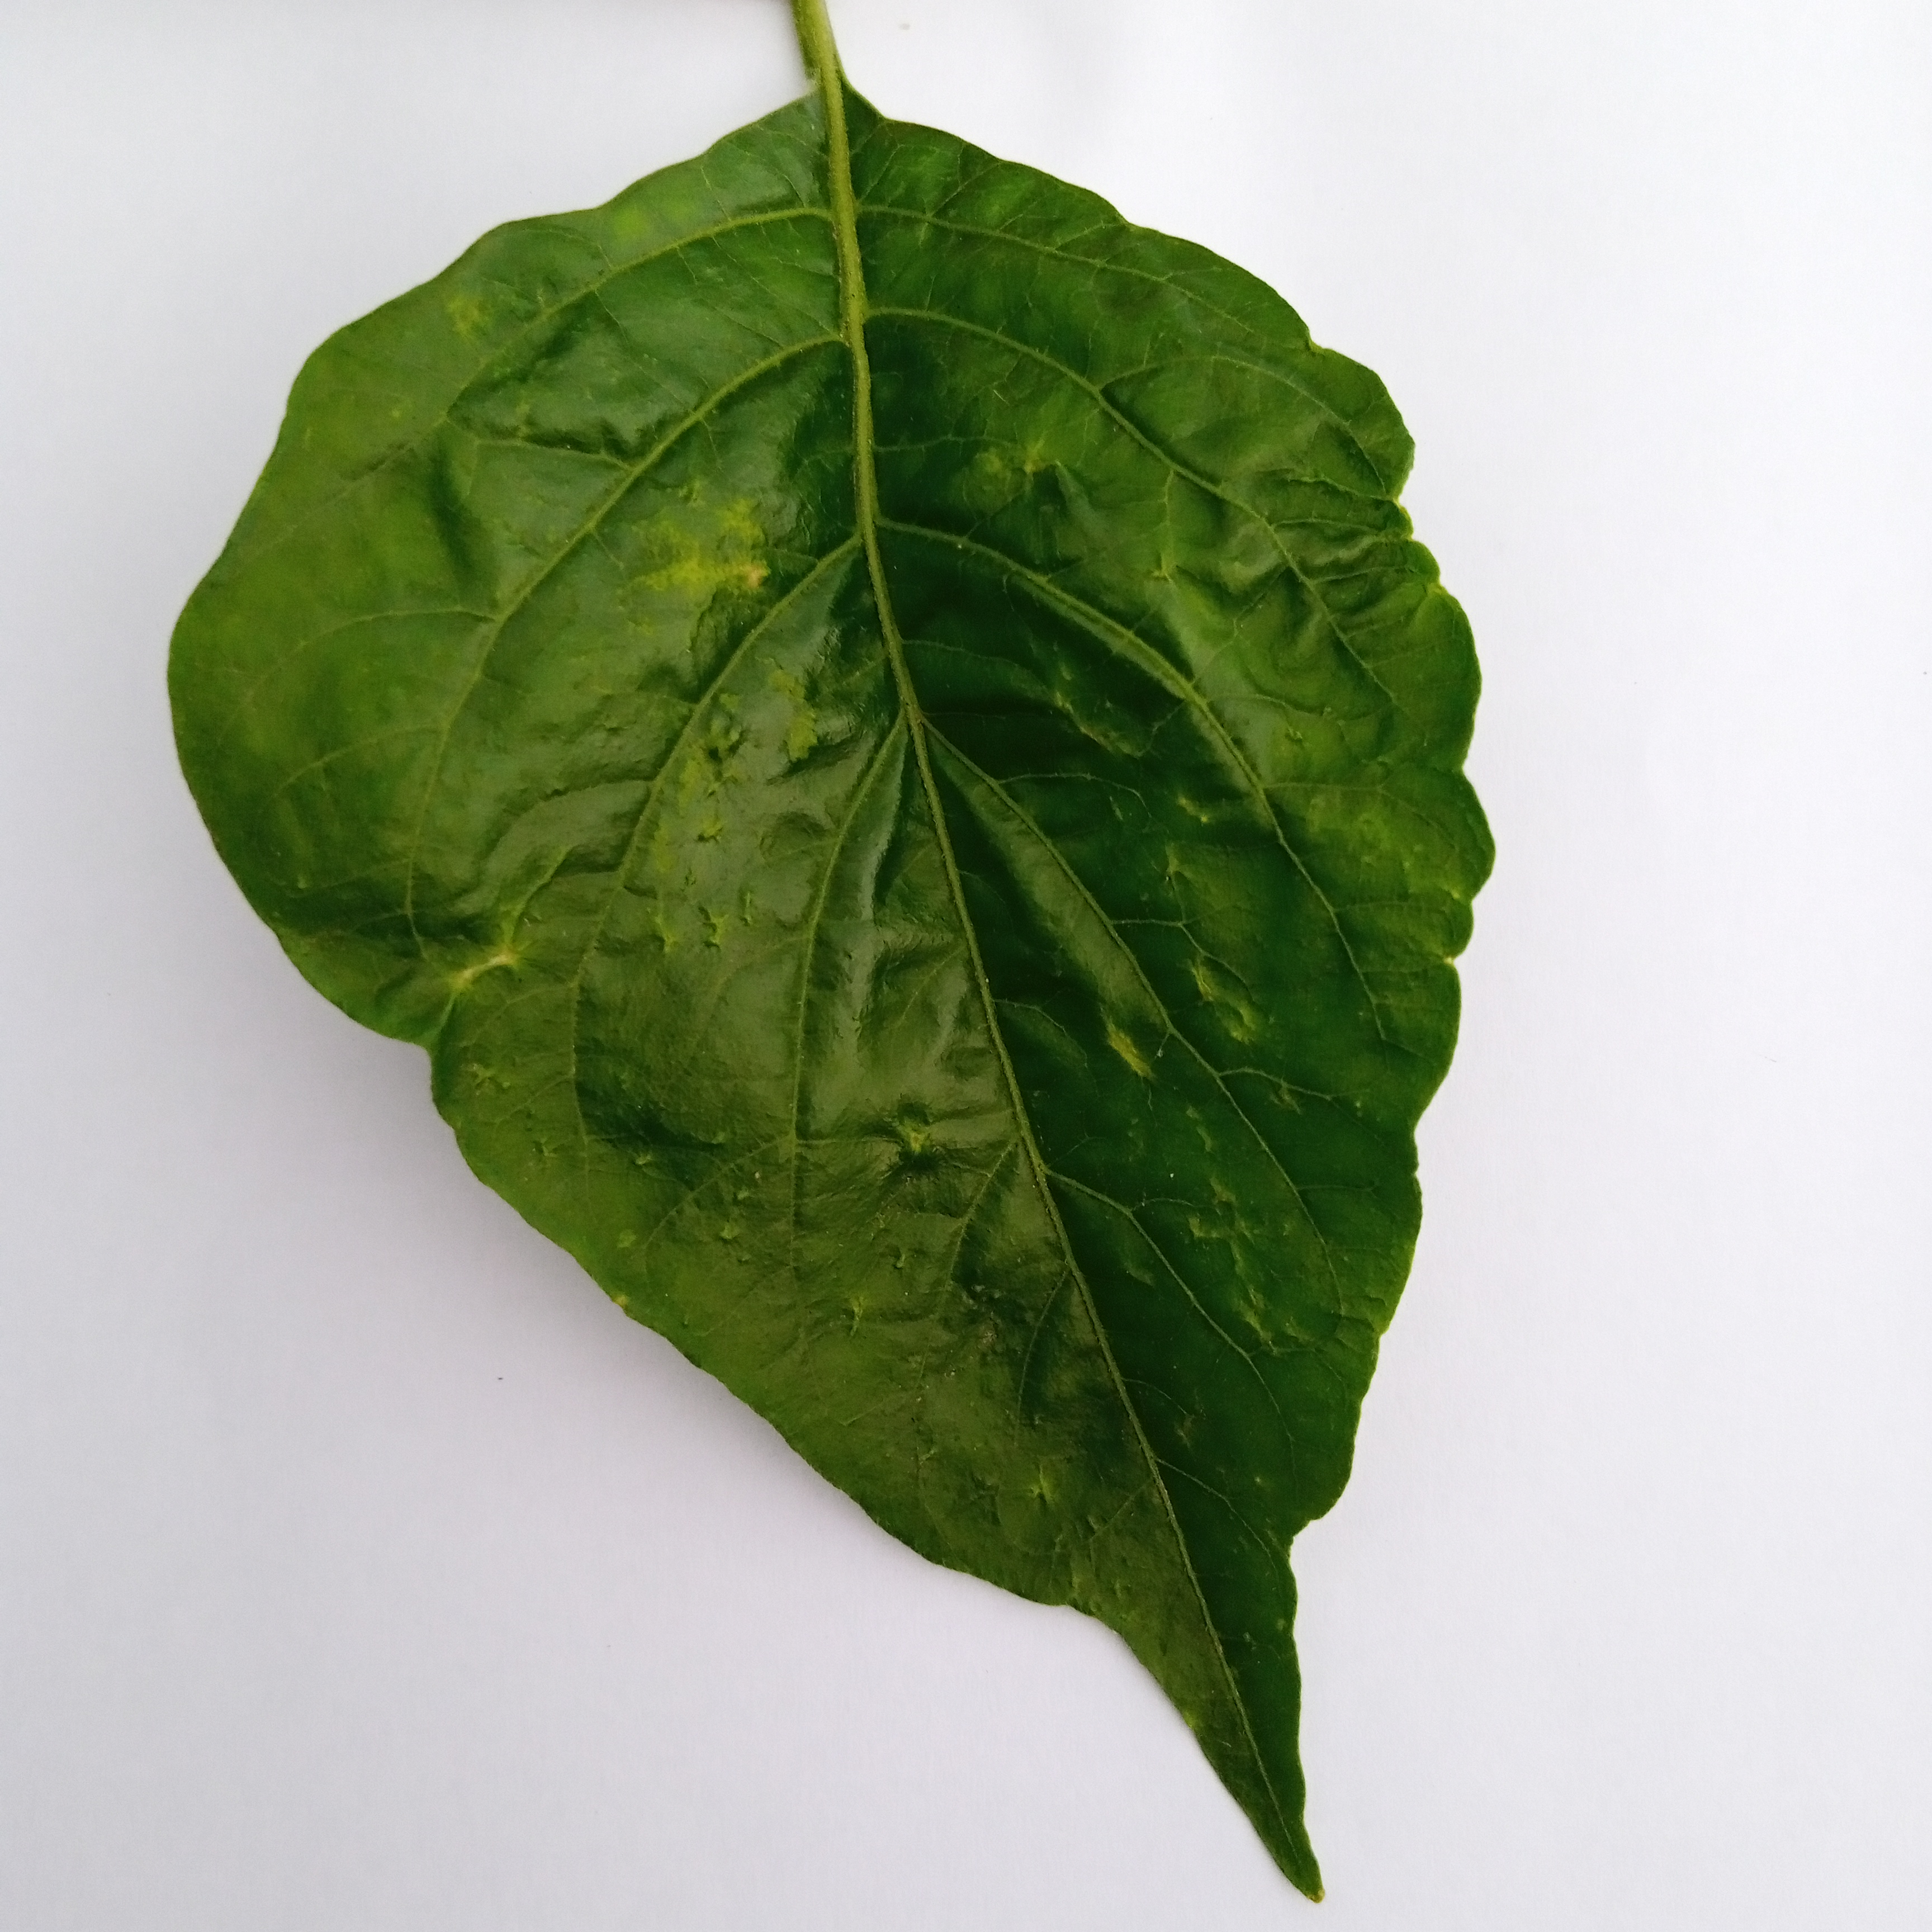Leaf: (74, 78, 1539, 1927)
